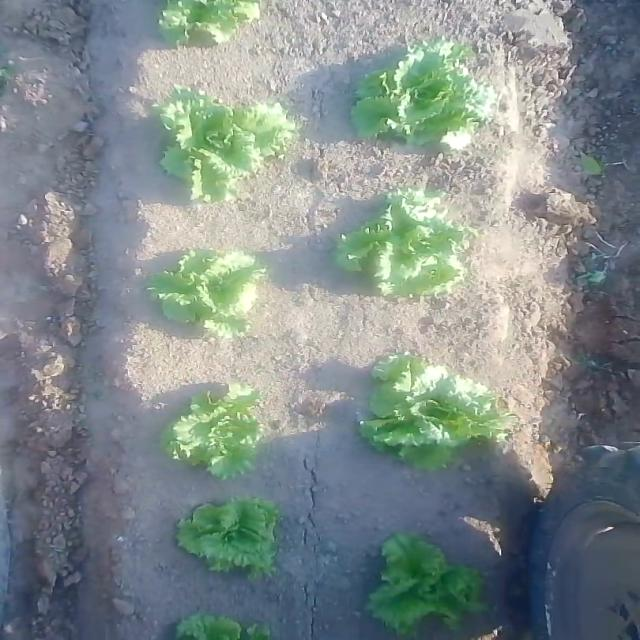Lettuce-Ready-to-Harvest: (352, 363, 514, 479), (364, 47, 501, 156), (145, 98, 284, 205), (354, 538, 492, 627), (178, 502, 283, 572)
